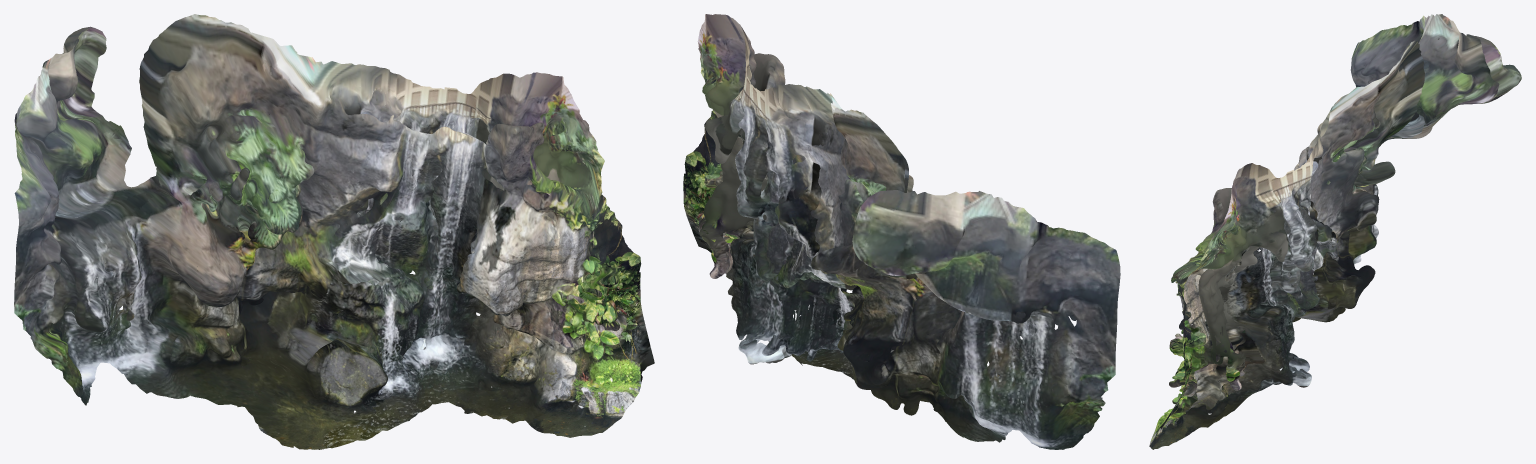
File: waterfall_display_at_hilton_waikiki_hawaii.glb
3 views of the same model, side by side, from view 1: azimuth 30°, elevation 25°; view 2: azimuth 150°, elevation 25°; view 3: azimuth 270°, elevation 25° (orthographic). The views are drawn at different scales.
Visible parts, largest first — view 1: Object_3, Object_2; view 2: Object_3, Object_2; view 3: Object_2, Object_3.
Boxes of the visible parts, bbox=[...] form: Object_3: bbox=[14, 14, 622, 448]; Object_2: bbox=[16, 22, 654, 449]; Object_3: bbox=[697, 14, 1120, 449]; Object_2: bbox=[683, 22, 1075, 416]; Object_2: bbox=[1149, 14, 1521, 449]; Object_3: bbox=[1171, 21, 1437, 431].
Size of the model in its own units: 69.73 by 47.68 by 51.77.
1 material, 1 textured.
